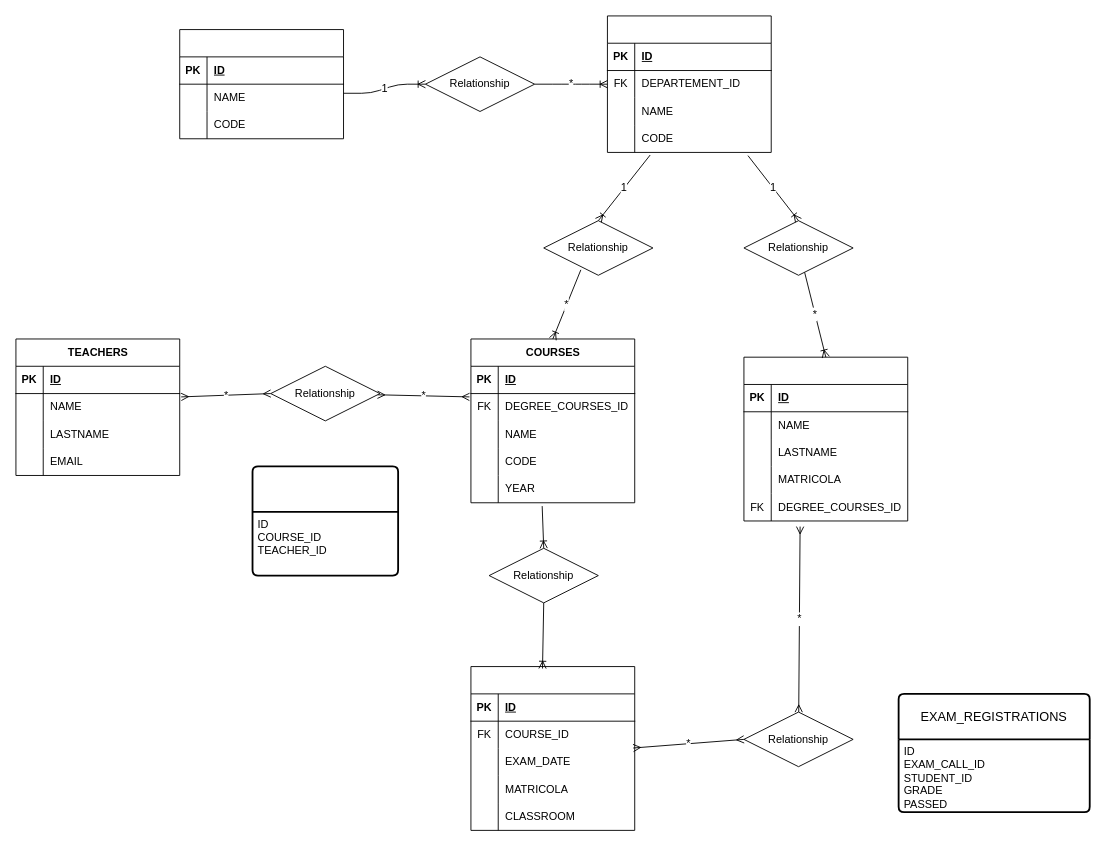
Image size: 1107x846. Some labels were removed from this diagram. The shapes that lost their labels are listed below. From the top down, each one's box as (x1, y1, x2, y2) in pixels, then its label:
(179, 29, 344, 139): Departments
(607, 15, 771, 152): DEGREE_COURSES
(743, 356, 908, 521): STUDENTS
(251, 465, 399, 576): COURSE_TEACHER
(470, 666, 635, 830): EXAM_CALLS
